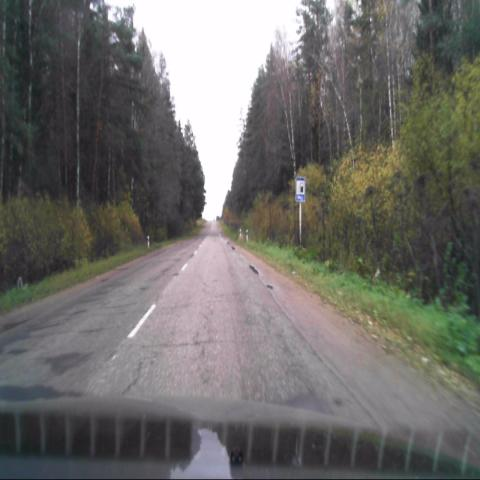7_3: (295, 176, 305, 202)
